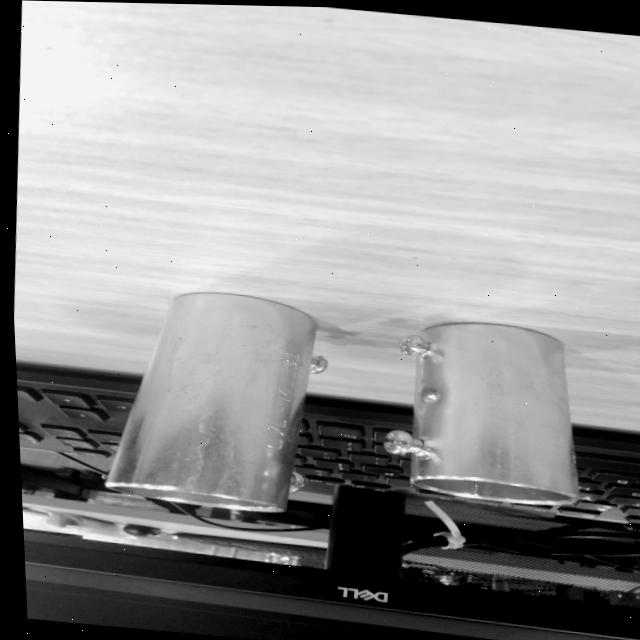Co_Lon: (104, 277, 339, 527)
Co_Nho: (379, 315, 593, 508)
